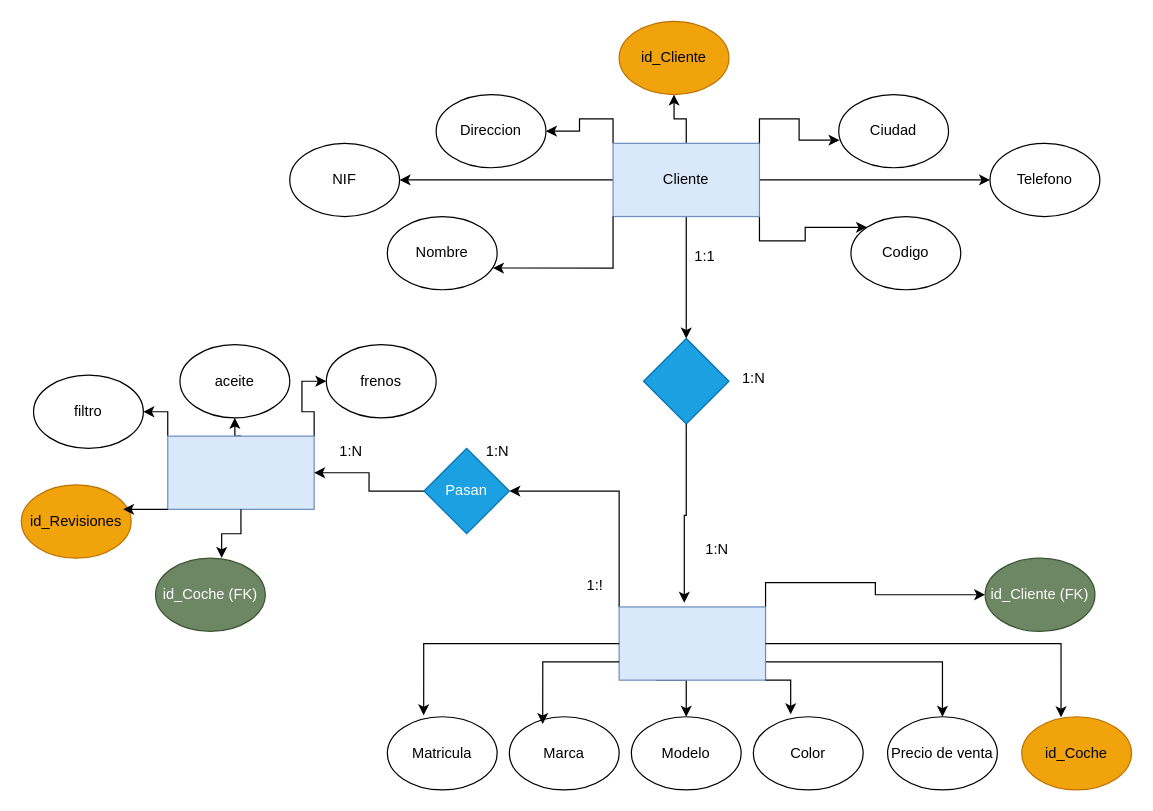
This 1153x811 diagram has some shape labels left out. The shapes that lost their labels are listed below. From the top down, each one's centre as x and y in pixels, then its label:
the point at 685,380: Compra
the point at 240,472: Revisiones
the point at 692,643: Coche
